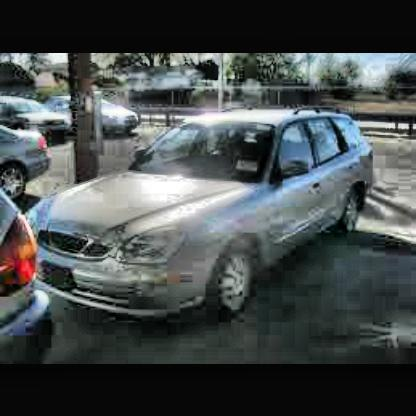Daewoo Nubira Wagon 2002: (28, 109, 376, 321)
